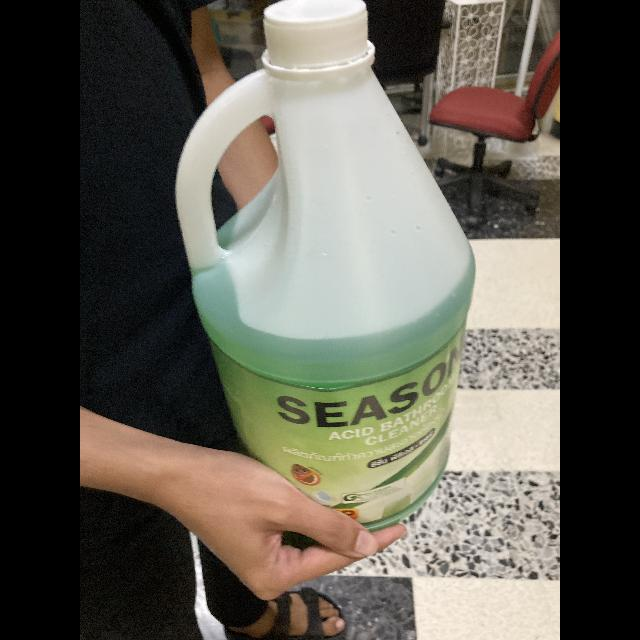chemical_plastic_gallon: (163, 1, 477, 540)
